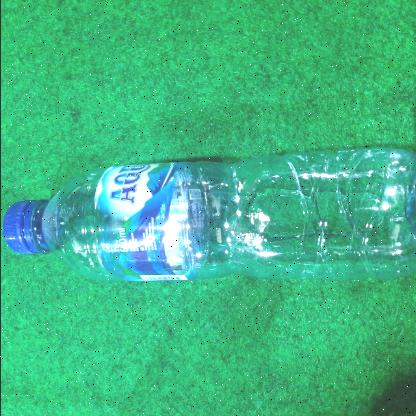Plastic Bottle: (8, 127, 414, 303)
